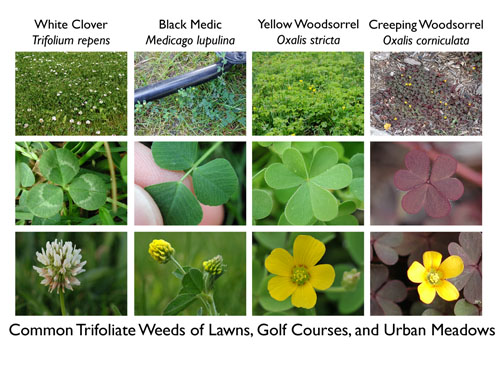oxalis: (375, 234, 481, 314), (268, 150, 360, 222), (398, 153, 463, 214)
